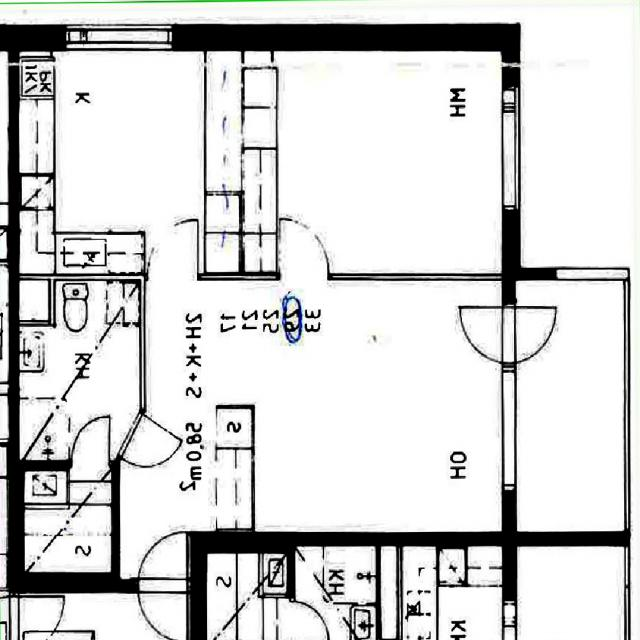door: (116, 411, 180, 484), (454, 306, 516, 363), (502, 306, 564, 363), (139, 520, 188, 592), (146, 214, 198, 280), (139, 578, 188, 640), (280, 217, 328, 279), (72, 417, 110, 470)
